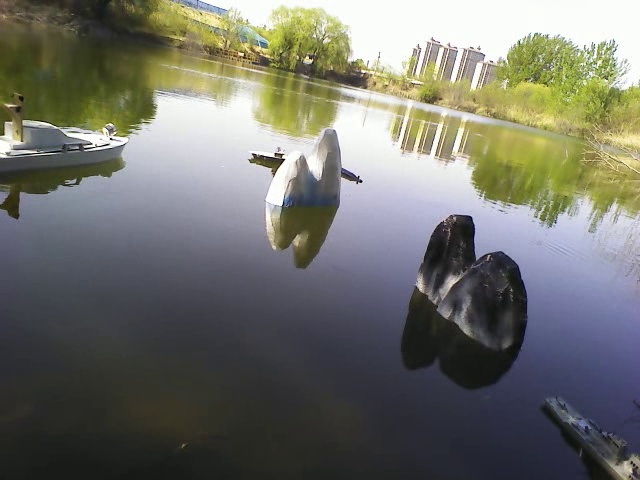aircraft_carrier: (249, 143, 285, 170)
boat: (2, 120, 134, 174)
iceberg: (264, 127, 347, 211)
rock: (415, 210, 530, 356)
warship: (544, 390, 637, 476)
